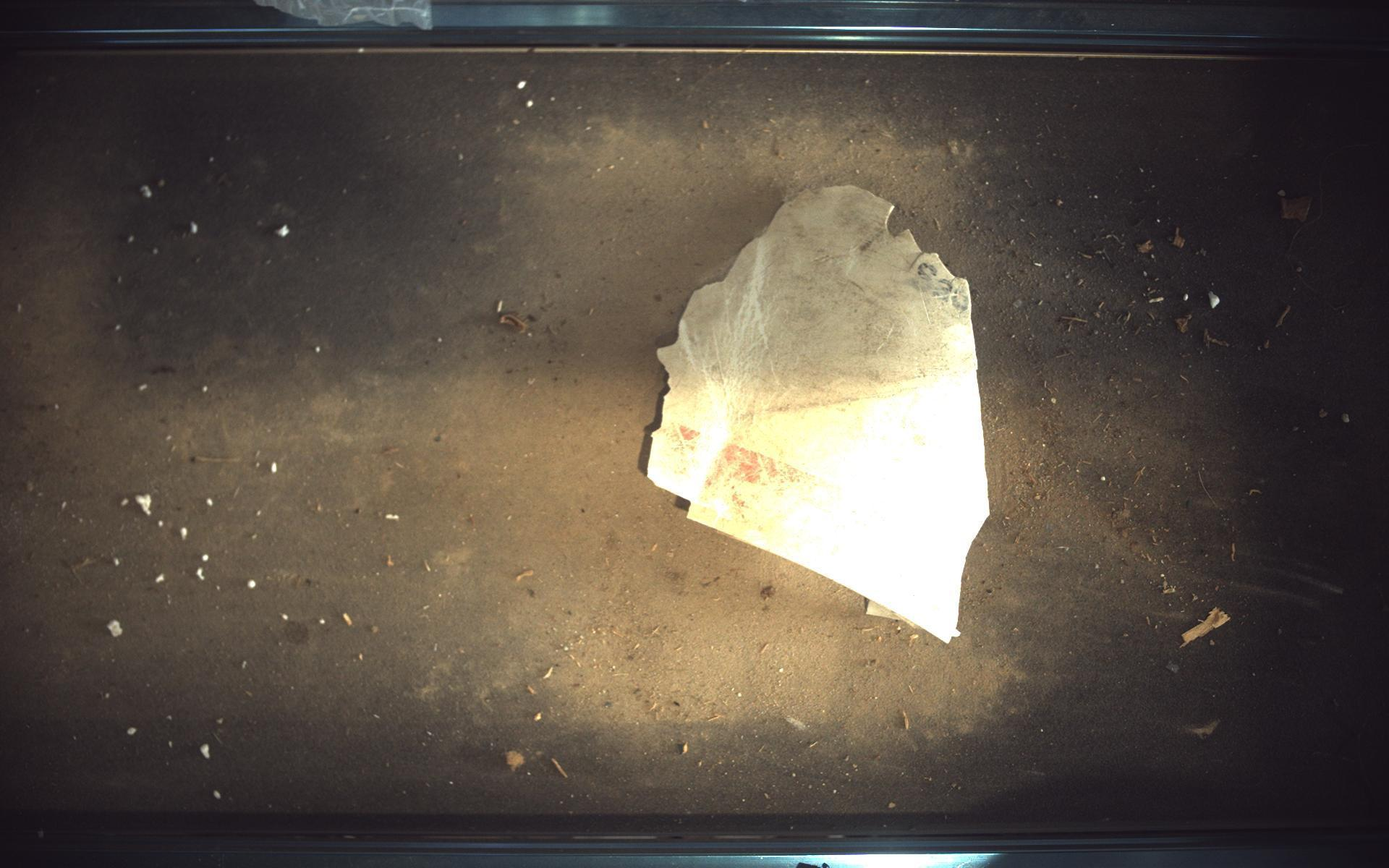plastic: (648, 185, 991, 643)
